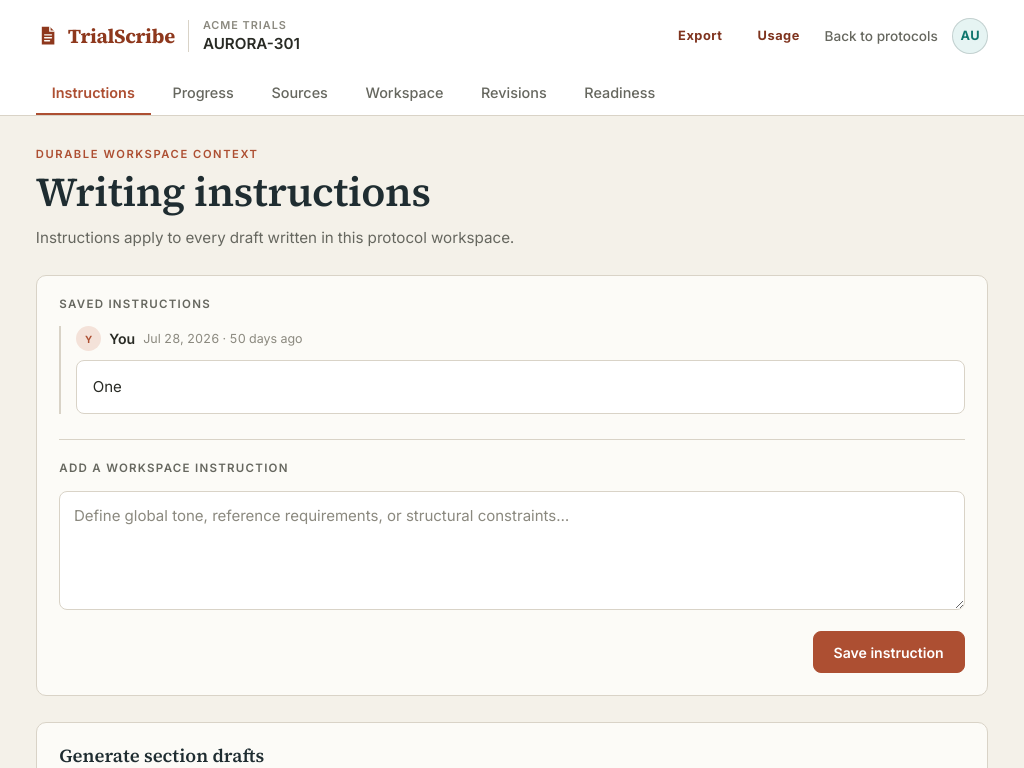
WorkspaceInstructionsPage › keeps the typed instruction and shows a fixed message when saving fails
Type "Rejected instruction" into the text box labelled "Add a workspace instruction" at (512, 550), box [59, 491, 965, 610]
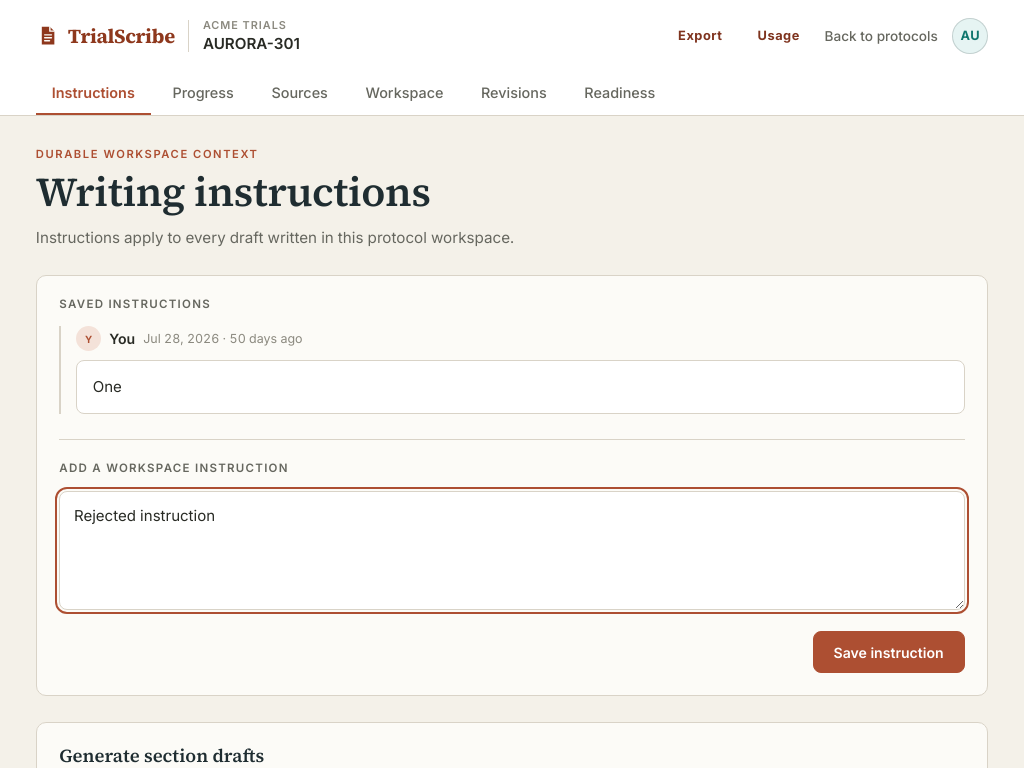
Click the button "Save instruction" at (889, 652), box [812, 631, 965, 673]
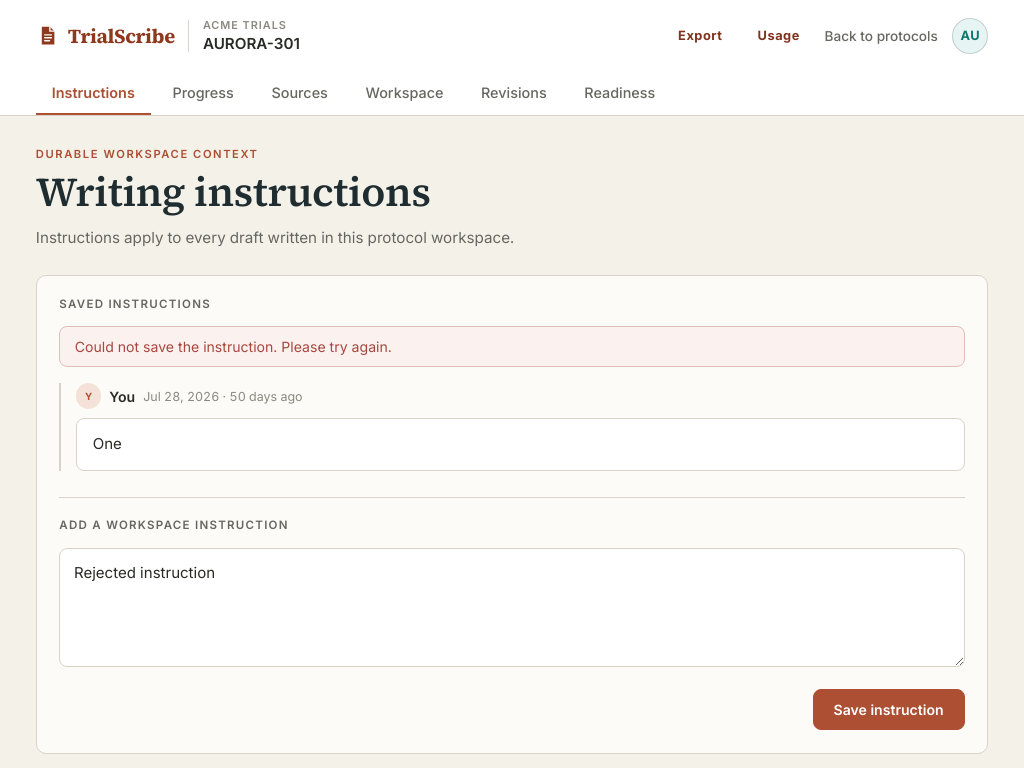
Expected: the message reads "Could not save the instruction. Please try again.", [75, 338, 392, 355]
